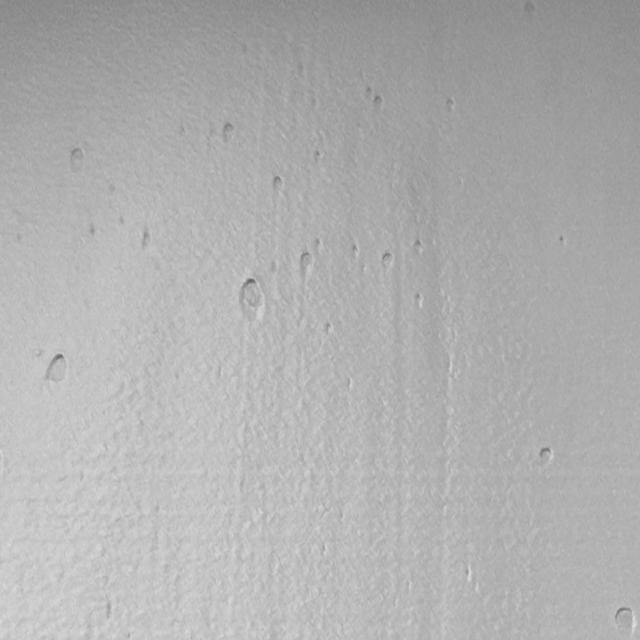pin holes: (237, 275, 269, 326), (44, 352, 73, 386), (612, 604, 637, 640), (67, 145, 88, 175), (296, 248, 315, 278), (535, 444, 556, 470), (458, 566, 478, 590), (218, 120, 237, 145), (269, 175, 288, 200), (442, 95, 461, 119), (519, 1, 540, 22), (380, 251, 396, 275), (138, 229, 153, 251), (410, 292, 426, 312), (348, 242, 361, 262), (411, 237, 425, 255), (372, 94, 385, 111), (311, 236, 323, 254), (555, 233, 568, 249), (312, 150, 324, 166), (324, 322, 336, 338), (88, 224, 100, 240), (365, 85, 377, 100), (118, 215, 129, 230), (106, 601, 113, 622), (108, 182, 117, 198), (180, 127, 187, 142), (362, 263, 368, 274), (322, 542, 326, 555)
